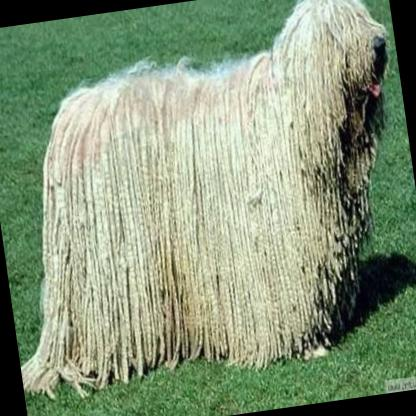komondor: (0, 0, 416, 411)
